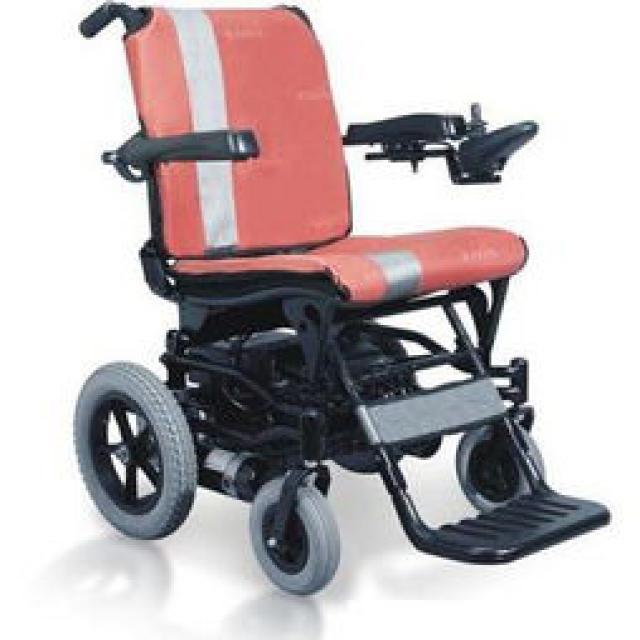wheelchair: (53, 0, 615, 598)
